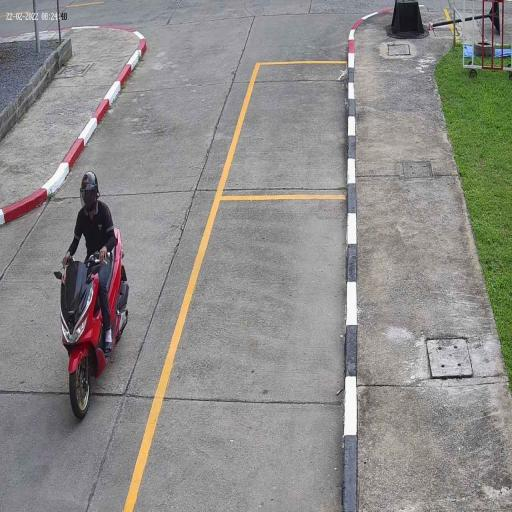motorcycle: (54, 256, 130, 424)
